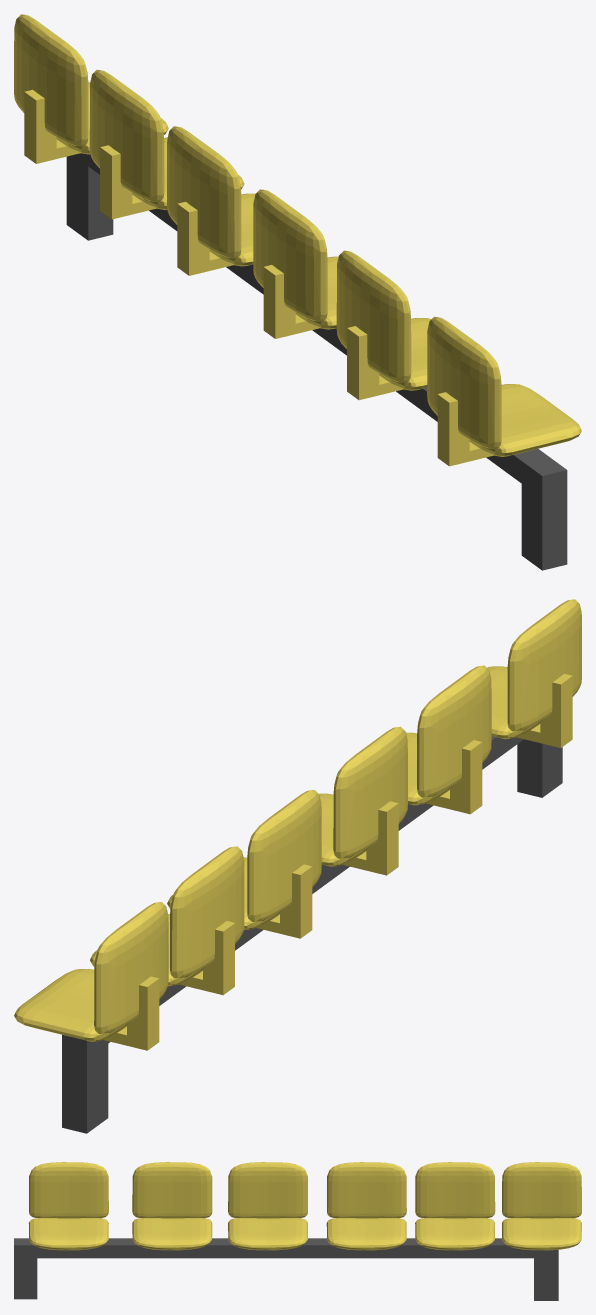
Rendered from SillasEspera.fbx.
The picture shows the model from 3 angles, top to bottom: view 1: azimuth 30°, elevation 25°; view 2: azimuth 150°, elevation 25°; view 3: azimuth 270°, elevation 25°; orthographic projection. The views are drawn at different scales.
Parts seen in each view (by area): view 1: Cube.025; view 2: Cube.025; view 3: Cube.025.
Boxes of the visible parts, x1=… form: Cube.025: x1=14, y1=14, x2=581, y2=570; Cube.025: x1=14, y1=599, x2=581, y2=1133; Cube.025: x1=14, y1=1162, x2=581, y2=1300.
Size of the model in its own units: 96.3 by 170 by 718.
